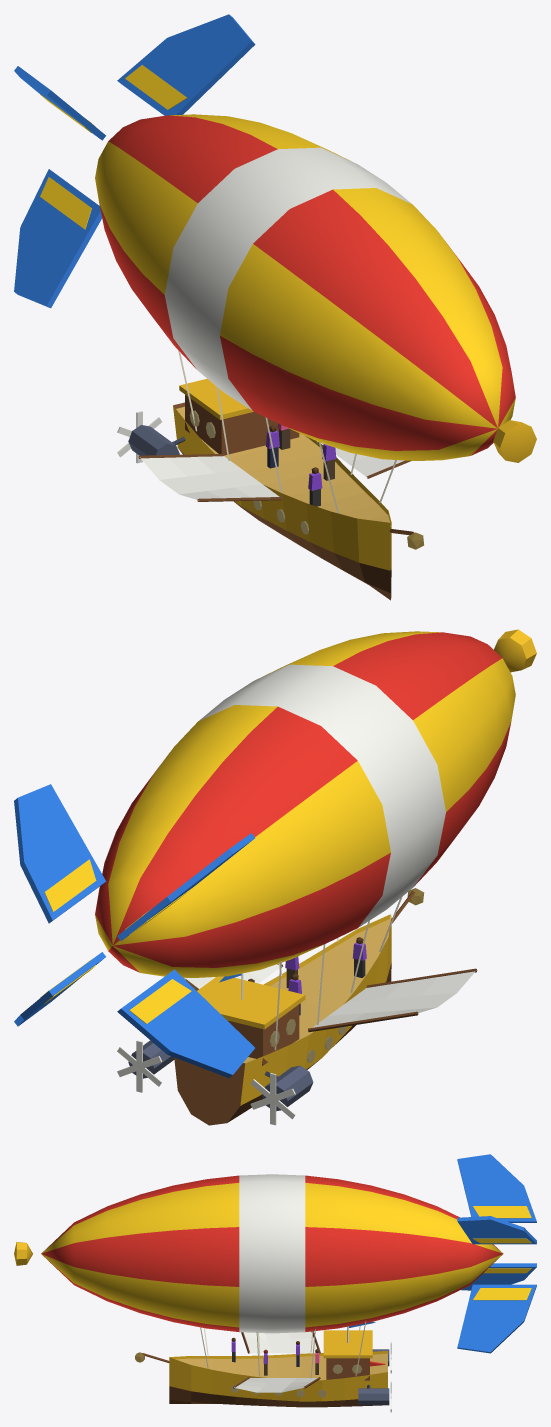
The model's file is airship.glb.
The picture shows the model from 3 angles, top to bottom: view 1: azimuth 30°, elevation 25°; view 2: azimuth 150°, elevation 25°; view 3: azimuth 270°, elevation 25°; orthographic projection. The views are drawn at different scales.
Visible parts, largest first — view 1: airship; view 2: airship; view 3: airship.
Part boxes in pixels (x1,y1,x2,y2): airship: [14, 14, 536, 600]; airship: [14, 629, 536, 1125]; airship: [14, 1154, 536, 1412].
Size of the model in its own units: 15.06 by 19.1 by 40.7.
2 materials, 2 textured.
